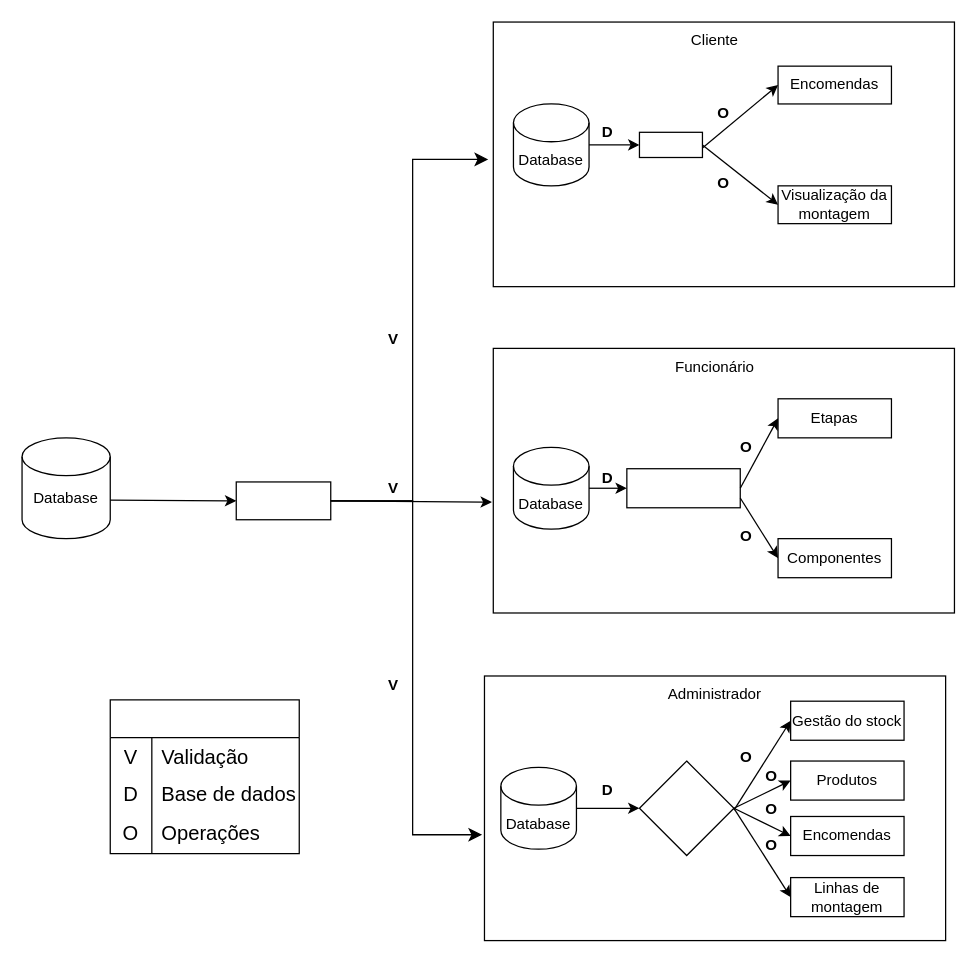
Image size: 977x963. Some labels were removed from this diagram. Here are the shapes that lost their labels. From the top down, the box of each, then its label:
(638, 131, 702, 158): Loja
(235, 481, 331, 520): Login
(626, 467, 740, 508): Processo de montagem
(109, 699, 299, 854): Designações
(638, 760, 734, 856): Dashboard
